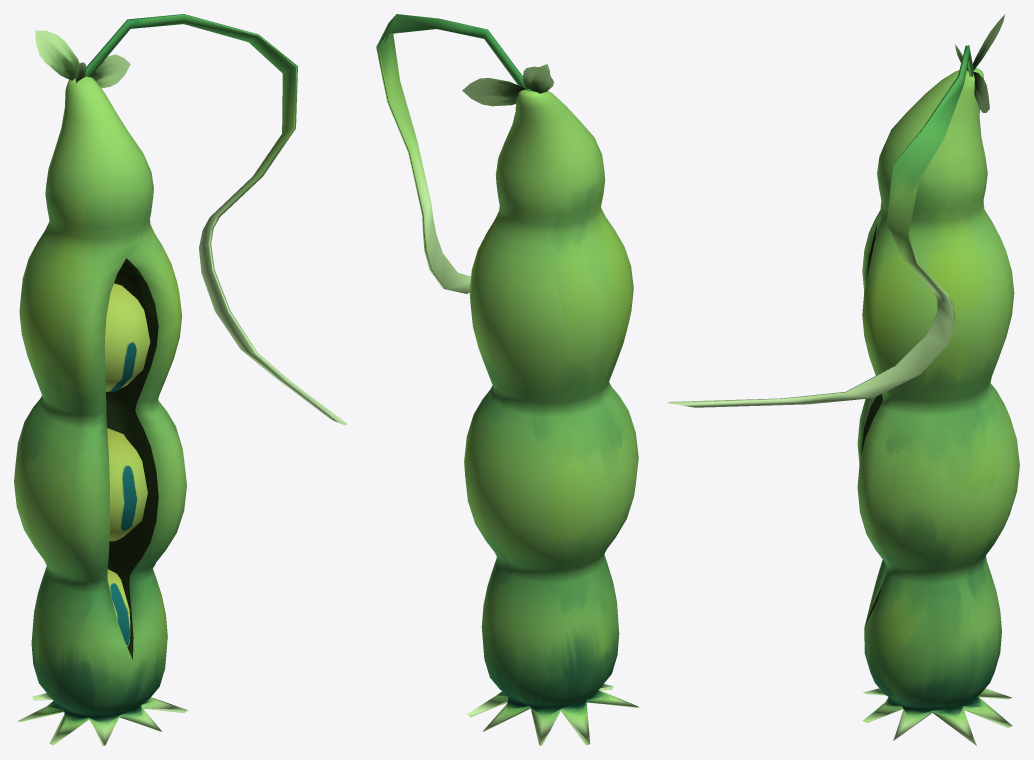
File: peapodCOMBINED.fbx
3 views of the same model, side by side, from view 1: azimuth 30°, elevation 25°; view 2: azimuth 150°, elevation 25°; view 3: azimuth 270°, elevation 25° (orthographic). The views are drawn at different scales.
Visible parts, largest first — view 1: pSphere6; view 2: pSphere6; view 3: pSphere6.
Part boxes in pixels (bbox=[...]): pSphere6: bbox=[14, 14, 347, 745]; pSphere6: bbox=[376, 14, 639, 745]; pSphere6: bbox=[668, 14, 1019, 745].
Bounding box in the file's own units: 2.88 × 7.39 × 3.39.
1 material, 1 textured.
